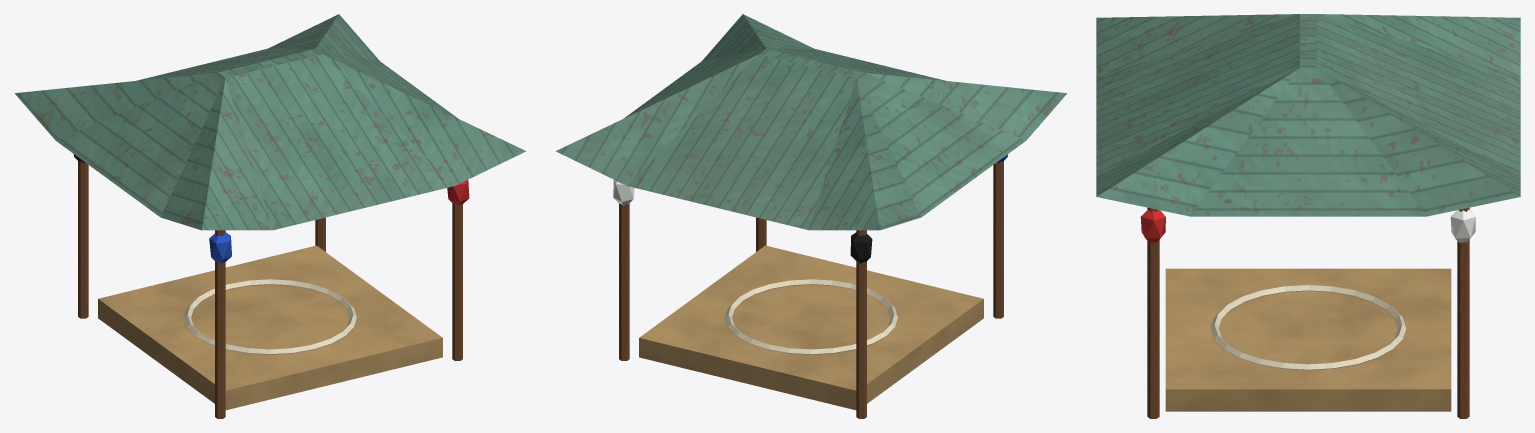
The model's file is dohyo_tex.glb.
3 renders of one model, left to right at view 1: azimuth 30°, elevation 25°; view 2: azimuth 150°, elevation 25°; view 3: azimuth 270°, elevation 25°, orthographic. The views are drawn at different scales.
Visible parts, largest first — view 1: dohyo; view 2: dohyo; view 3: dohyo.
Boxes of the visible parts, x1=… form: dohyo: x1=15, y1=14, x2=525, y2=418; dohyo: x1=556, y1=14, x2=1066, y2=418; dohyo: x1=1096, y1=14, x2=1520, y2=418.
Size of the model in its own units: 10.4 by 8.4 by 10.4.
8 materials, 4 textured.
